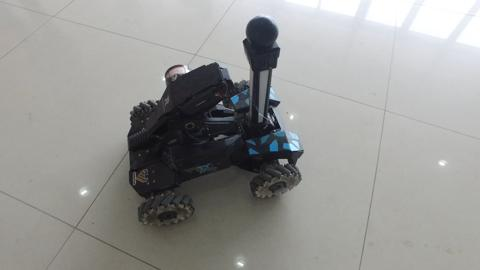chariot: (110, 20, 310, 225)
